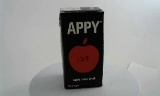appy: (54, 5, 98, 90)
